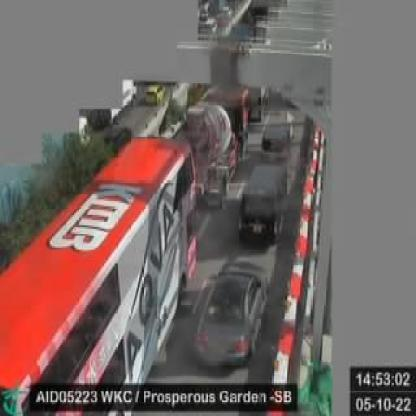Bus: (0, 140, 195, 413)
Car: (199, 258, 270, 364), (239, 159, 287, 248), (258, 111, 294, 163)
Truck: (183, 89, 250, 204)
